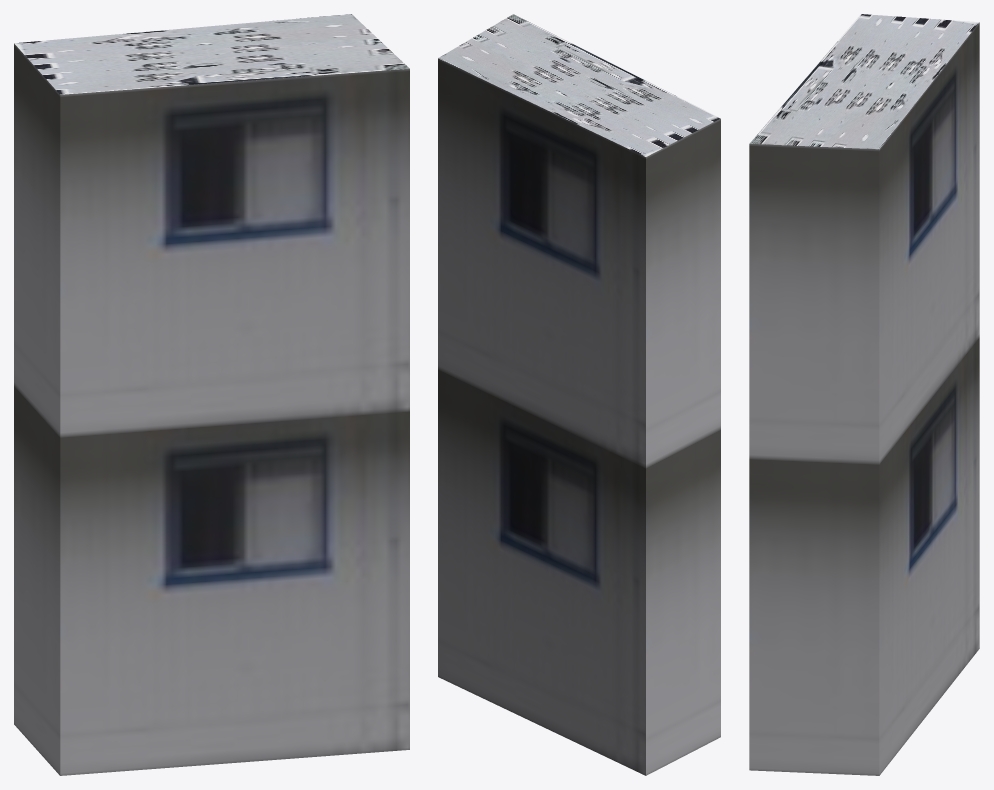
Rendered from ResTex__4667.fbx.
The picture shows the model from 3 angles, left to right: view 1: azimuth 30°, elevation 25°; view 2: azimuth 150°, elevation 25°; view 3: azimuth 270°, elevation 25°; orthographic projection. The views are drawn at different scales.
Visible parts, largest first — view 1: CityEngineMaterial_9_m, CityEngineMaterial_8_m; view 2: CityEngineMaterial_9_m, CityEngineMaterial_8_m; view 3: CityEngineMaterial_9_m, CityEngineMaterial_8_m.
Boxes of the visible parts, x1,y1,x2,y2 form: CityEngineMaterial_9_m: [14, 43, 409, 775]; CityEngineMaterial_8_m: [14, 14, 409, 94]; CityEngineMaterial_9_m: [438, 58, 720, 775]; CityEngineMaterial_8_m: [438, 14, 720, 156]; CityEngineMaterial_9_m: [749, 22, 979, 775]; CityEngineMaterial_8_m: [750, 14, 979, 149].
Bounding box in the file's own units: 2.78 × 6 × 2.
Materials: 2 (2 with a texture image).
